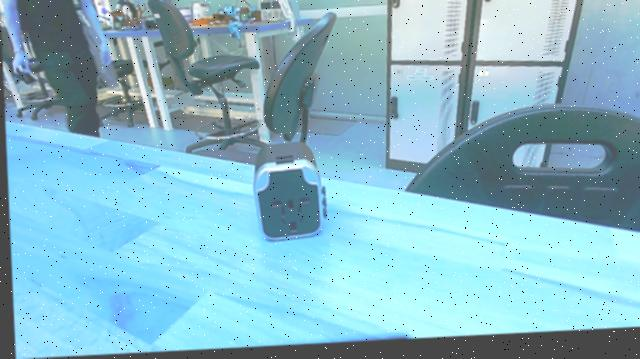adapter: (244, 139, 329, 248)
